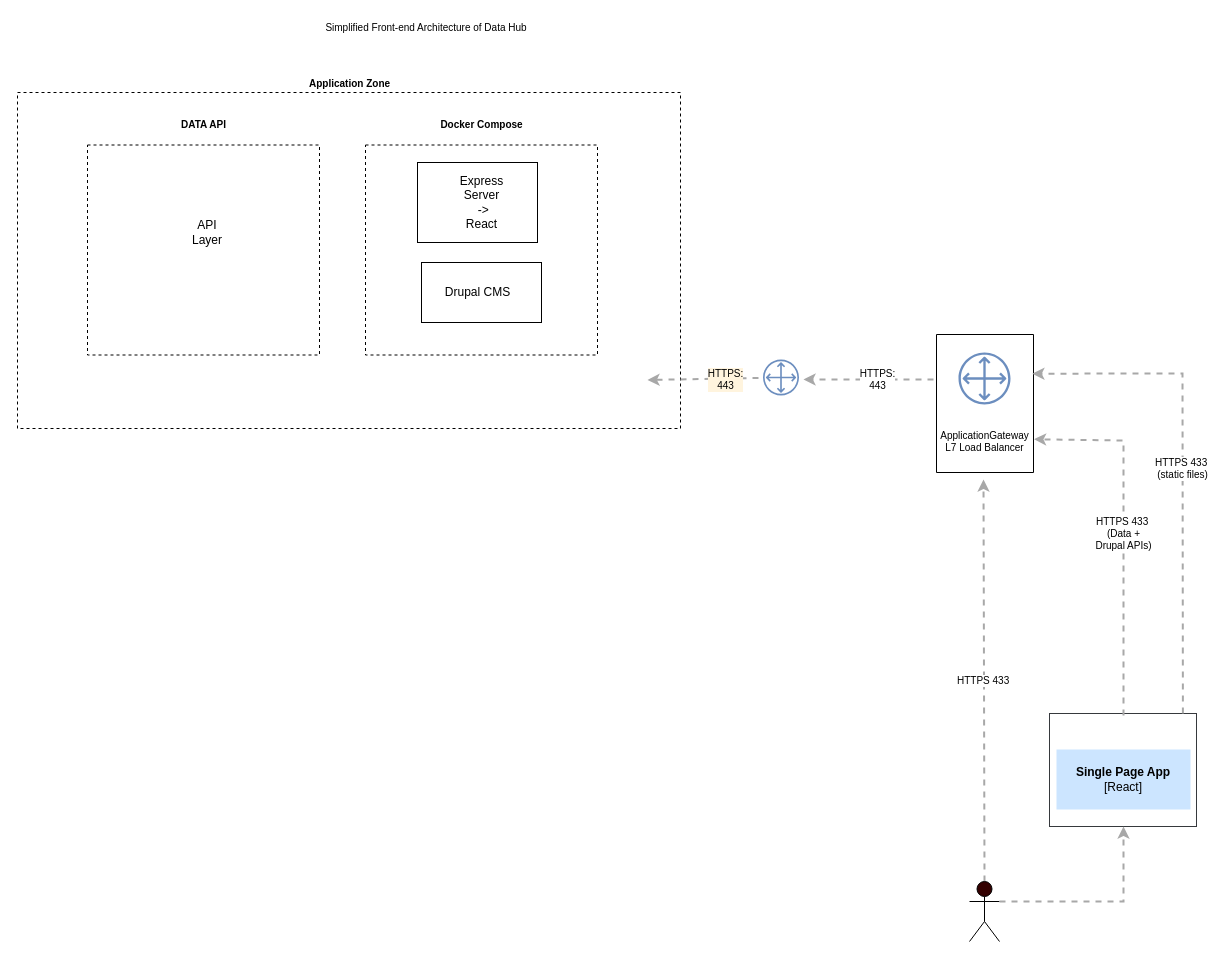
Image size: 1228x977. Some labels were removed from this diagram. Each missing label, with the box of its shape:
API Management: (758, 354, 804, 400)
End User: (968, 880, 1000, 942)
Web browser: (1048, 712, 1196, 826)
